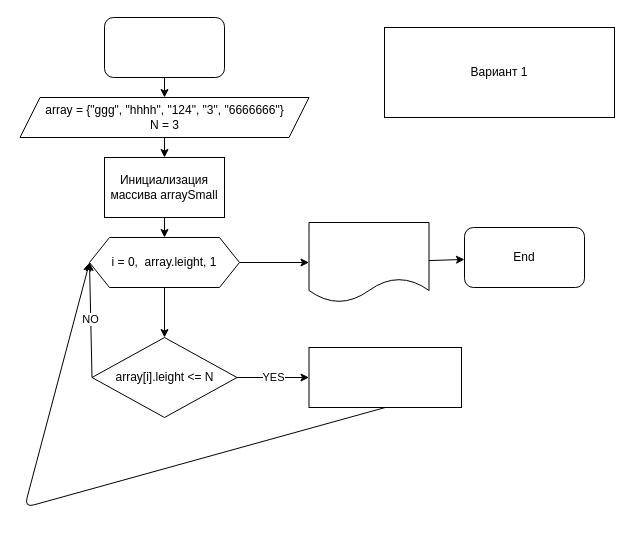
This 632x533 diagram has some shape labels left out. The shapes that lost their labels are listed below. From the top down, each one's box as (x1, y1, x2, y2) in pixels, then its label:
(104, 16, 224, 78): Start
(308, 222, 429, 302): arraySmall без пустых элементов
(308, 346, 462, 408): arraySmall[i] = array[i]
